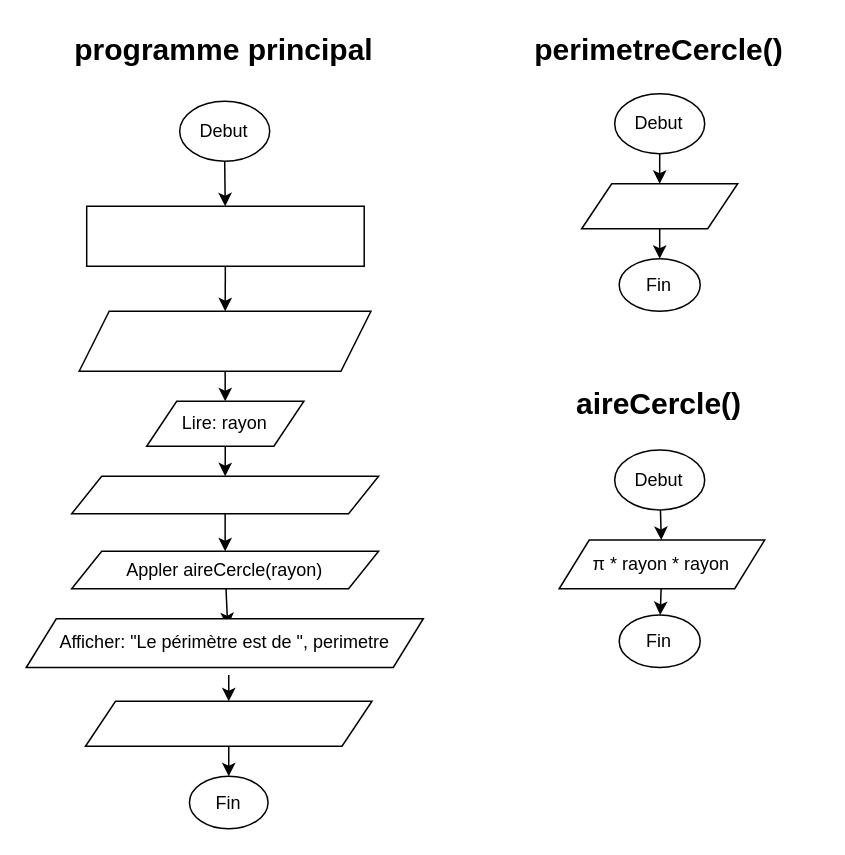
This 845x855 diagram has some shape labels left out. The box of each missing label's shape, as (x1, y1, x2, y2) in pixels:
2 π rayon: (580, 182, 738, 229)
Afficher: "Entrez le rayon : ": (78, 310, 371, 371)
Afficher: "L'aire est de ", aire: (84, 700, 372, 746)
Appler perimetreCercle(rayon): (70, 475, 379, 514)
Variables: rayon, perimetre, aire: (85, 205, 364, 266)
